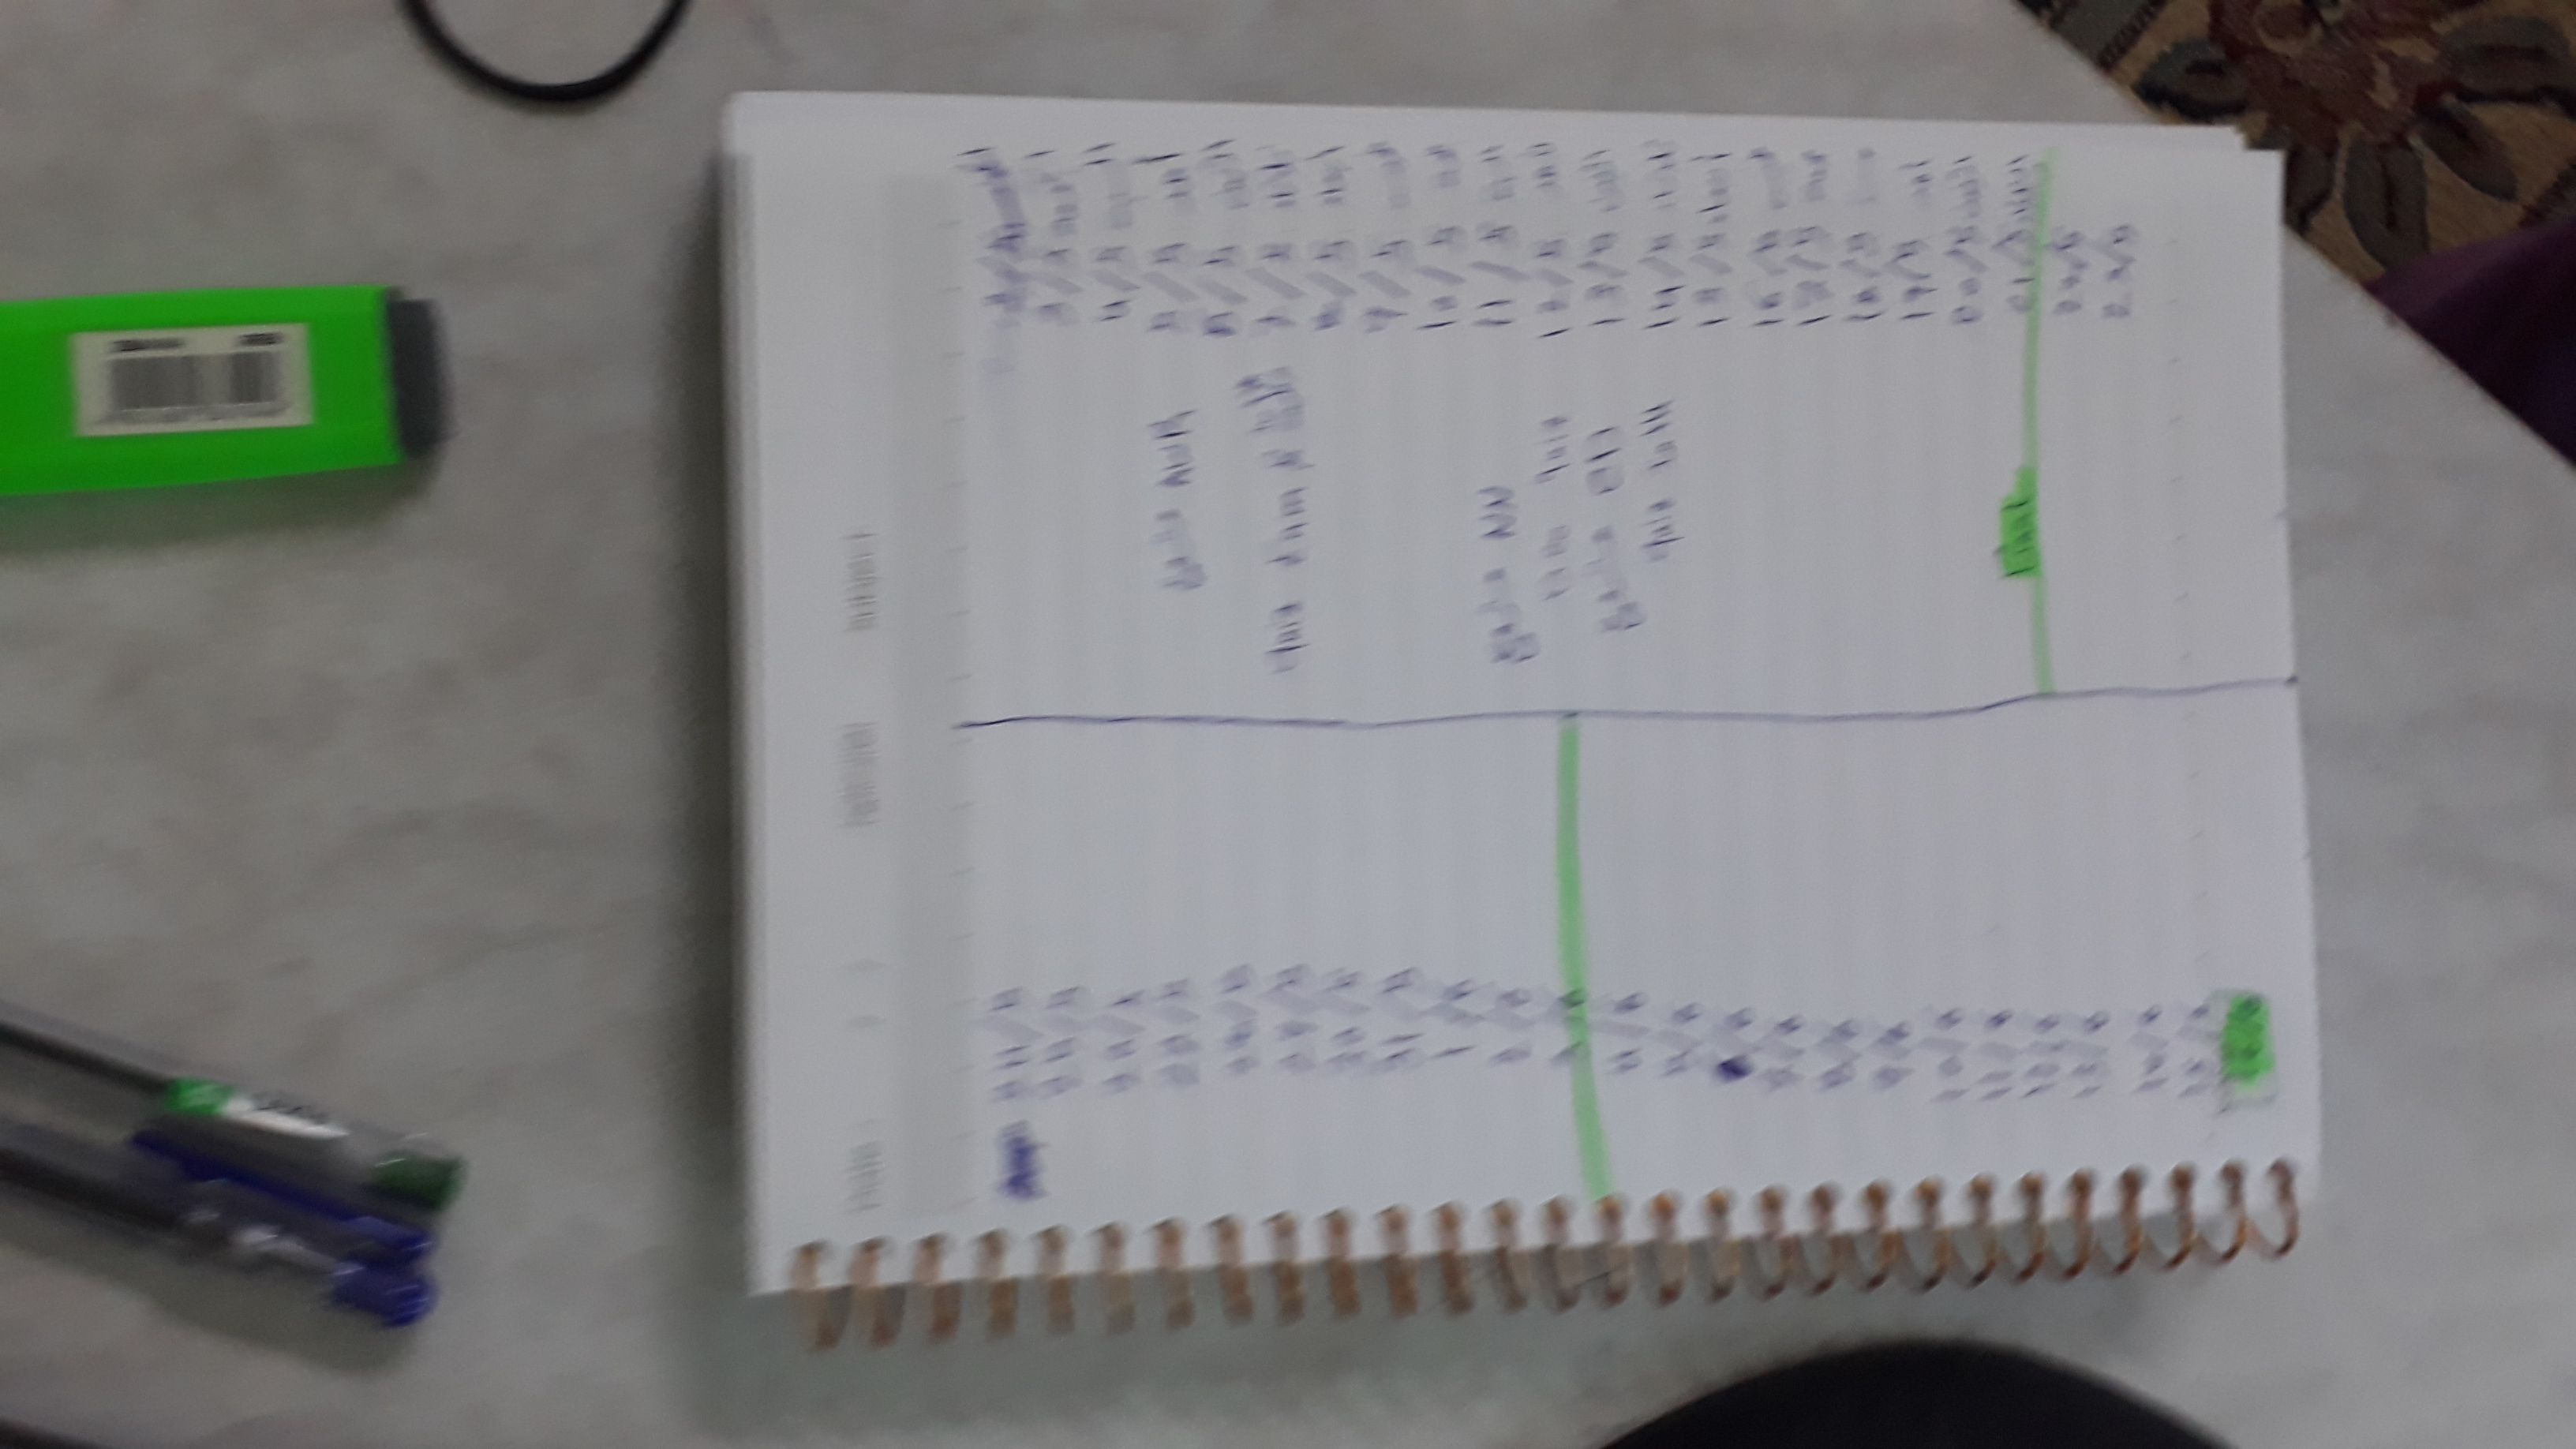dftar: (741, 97, 2337, 1361)
